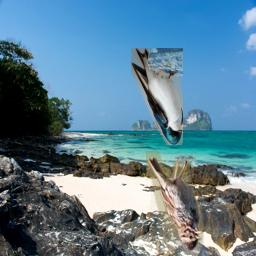Sparrow: (146, 151, 204, 255)
Swallow: (131, 48, 183, 145)
